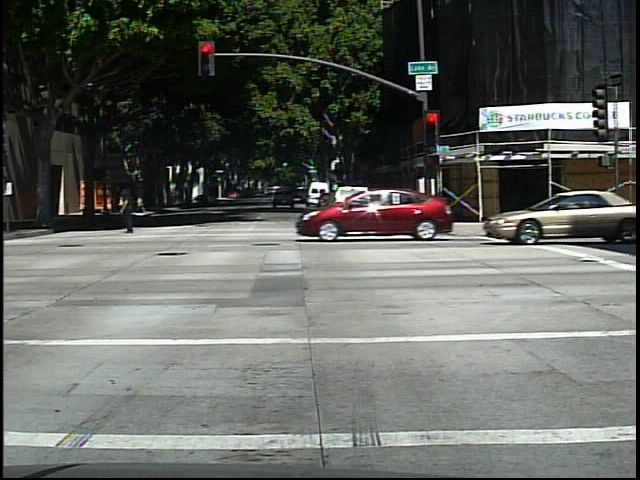person: (114, 183, 146, 236)
